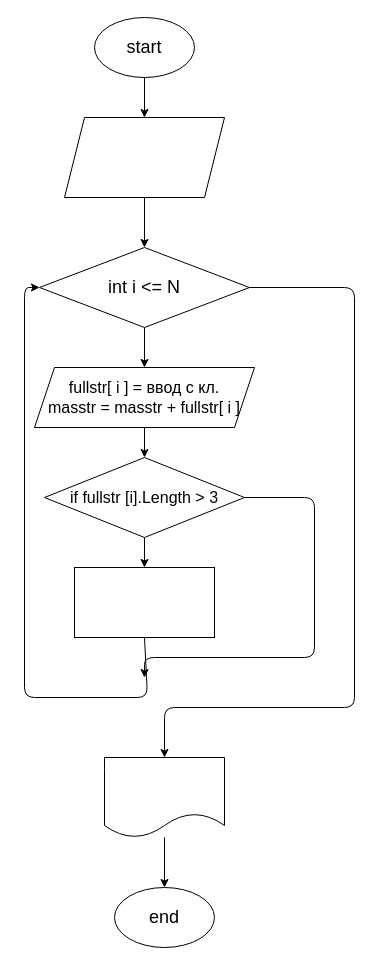
Image size: 380x965. Some labels were removed from this diagram. Each missing label, with the box of its shape:
masstr str: (104, 756, 224, 838)
N = ввод с кл. masstr = "0" str = "0" fullstr[ ] = [ N ]: (64, 116, 224, 198)
str = str + fullstr [i]: (74, 566, 214, 638)
